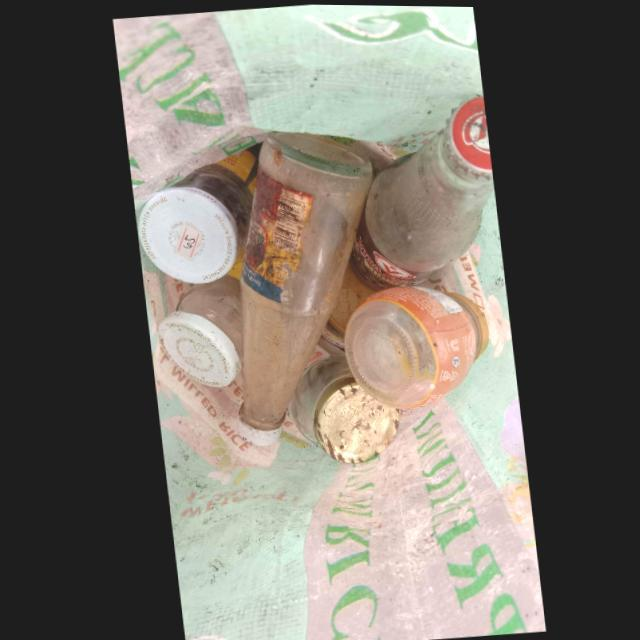glass: (235, 130, 372, 443), (348, 106, 494, 290), (342, 284, 485, 408), (134, 147, 257, 282), (286, 335, 399, 463), (155, 276, 239, 386)
